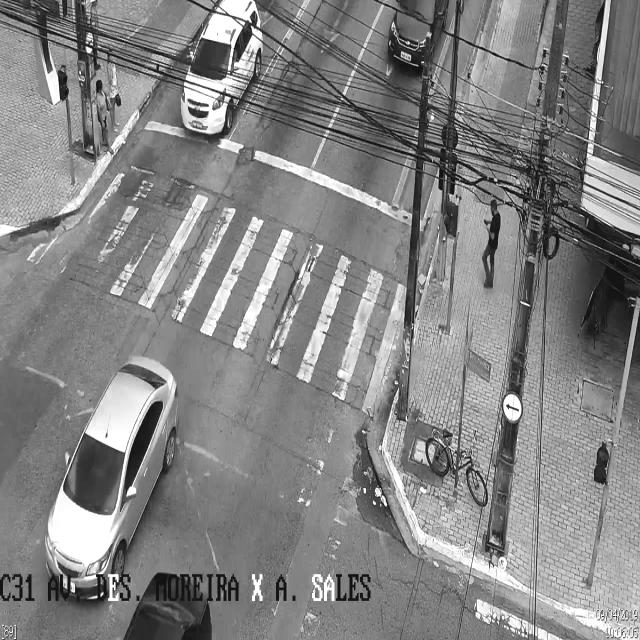Car: (43, 356, 178, 600), (104, 555, 237, 640), (180, 5, 262, 137), (387, 3, 449, 70)
